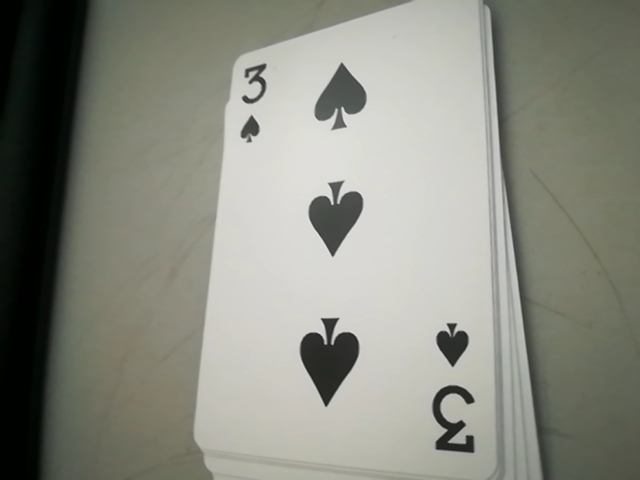ht 3: (424, 323, 483, 461), (235, 60, 270, 146)
